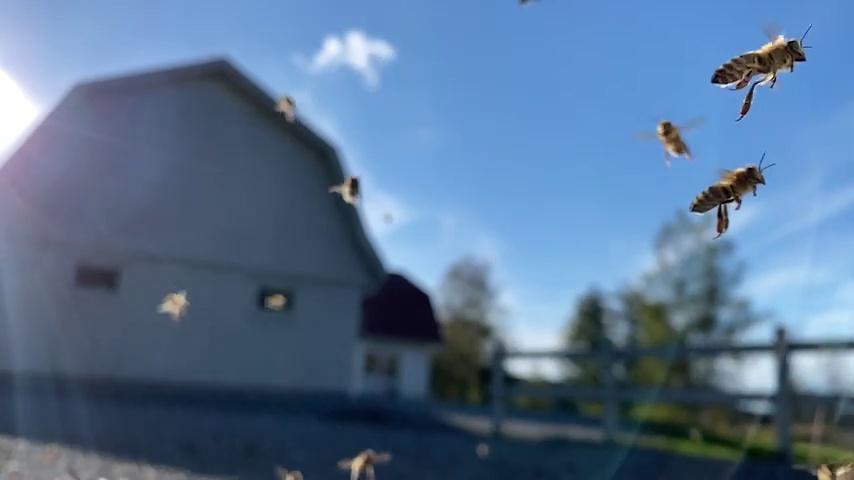insect: (708, 19, 815, 121), (686, 152, 773, 239), (652, 115, 699, 168), (327, 172, 364, 205), (273, 94, 300, 127)
